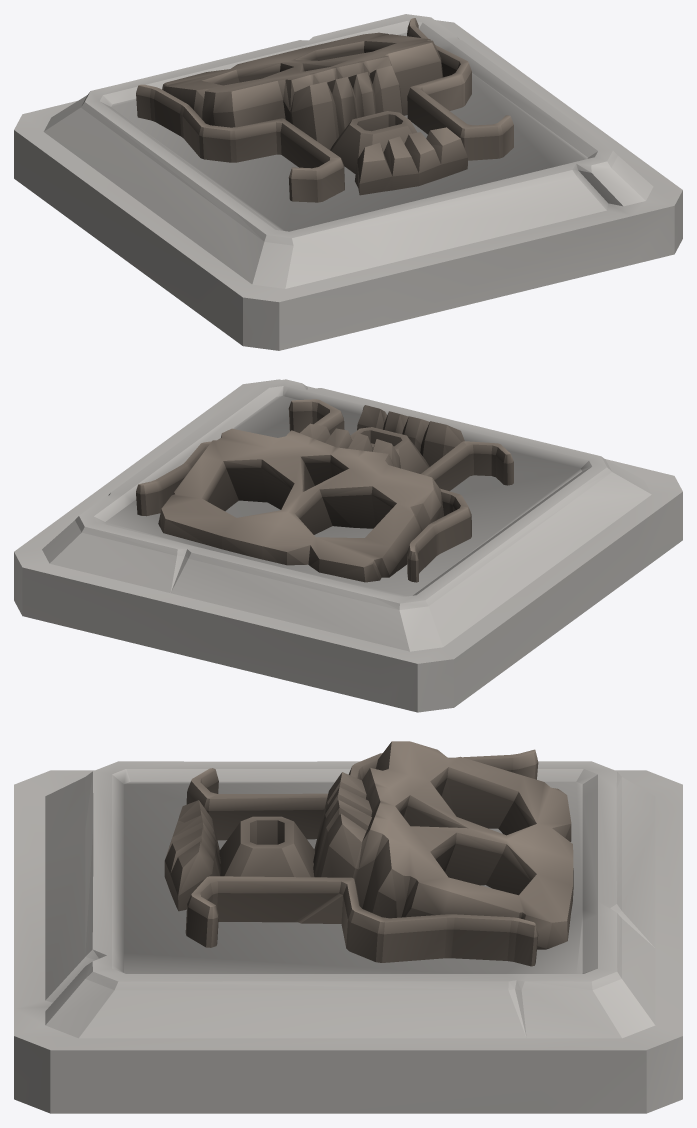
The model's file is floor_button_skull_A.FBX.
3 renders of one model, top to bottom at view 1: azimuth 30°, elevation 25°; view 2: azimuth 150°, elevation 25°; view 3: azimuth 270°, elevation 25°, orthographic. The views are drawn at different scales.
Parts seen in each view (by area): view 1: floor_button_skull_A; view 2: floor_button_skull_A; view 3: floor_button_skull_A.
Boxes of the visible parts, <box> form: floor_button_skull_A: <box>14,14,682,350</box>; floor_button_skull_A: <box>14,379,682,712</box>; floor_button_skull_A: <box>14,741,682,1113</box>.
Size of the model in its own units: 1.32 by 0.3885 by 1.33.
